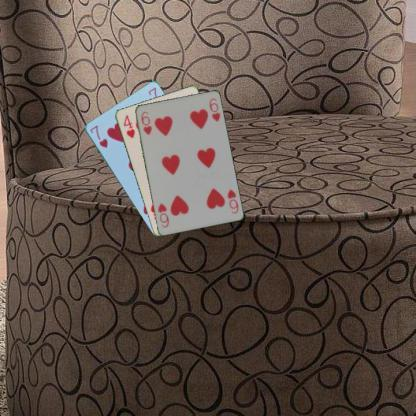4h: (121, 112, 136, 139)
6h: (224, 186, 239, 216), (138, 108, 153, 136)
7h: (87, 123, 109, 149)
